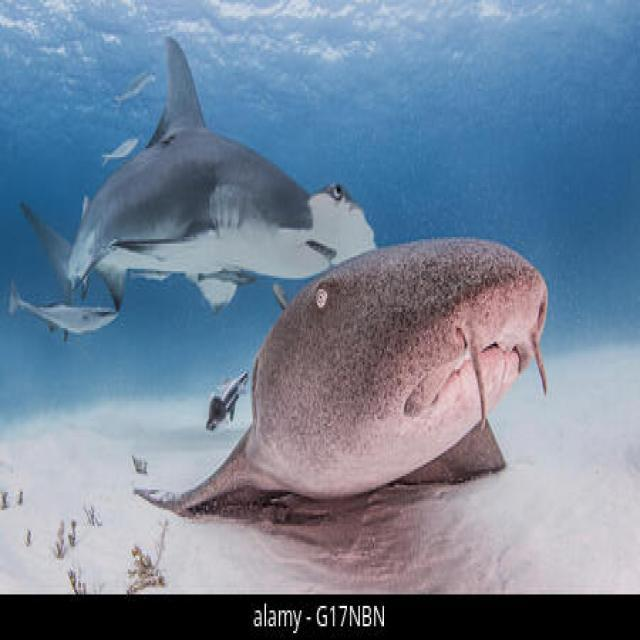Shark: (13, 16, 394, 321)
